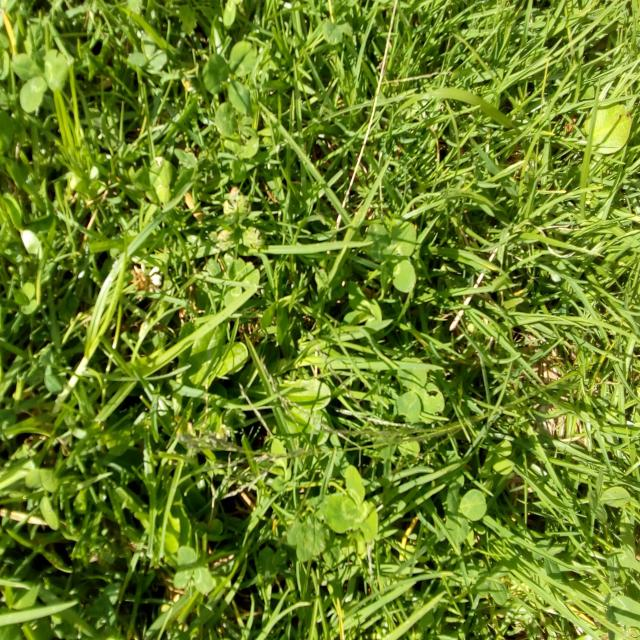Four Leaf Clover: (365, 218, 416, 295)
